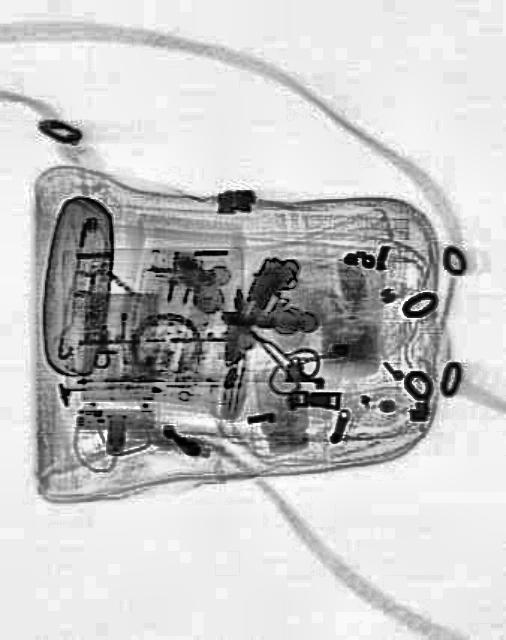Scissors: (224, 297, 324, 408)
